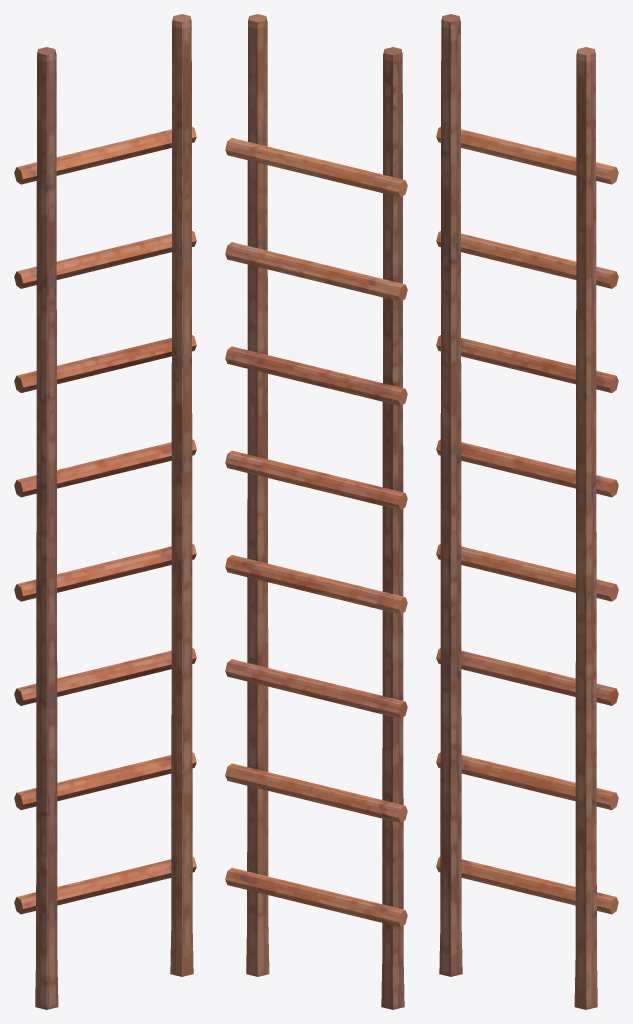
File: ladder_low.fbx
3 views of the same model, side by side, from view 1: azimuth 30°, elevation 25°; view 2: azimuth 150°, elevation 25°; view 3: azimuth 330°, elevation 25° (orthographic).
Visible parts, largest first — view 1: ladder; view 2: ladder; view 3: ladder.
Boxes of the visible parts, box(x1,y1,x2,y2) form: ladder: box(14, 14, 196, 1009); ladder: box(225, 14, 407, 1009); ladder: box(436, 14, 618, 1009).
Size of the model in its own units: 2.44 by 12.8 by 0.4663.
Materials: 1 (1 with a texture image).
